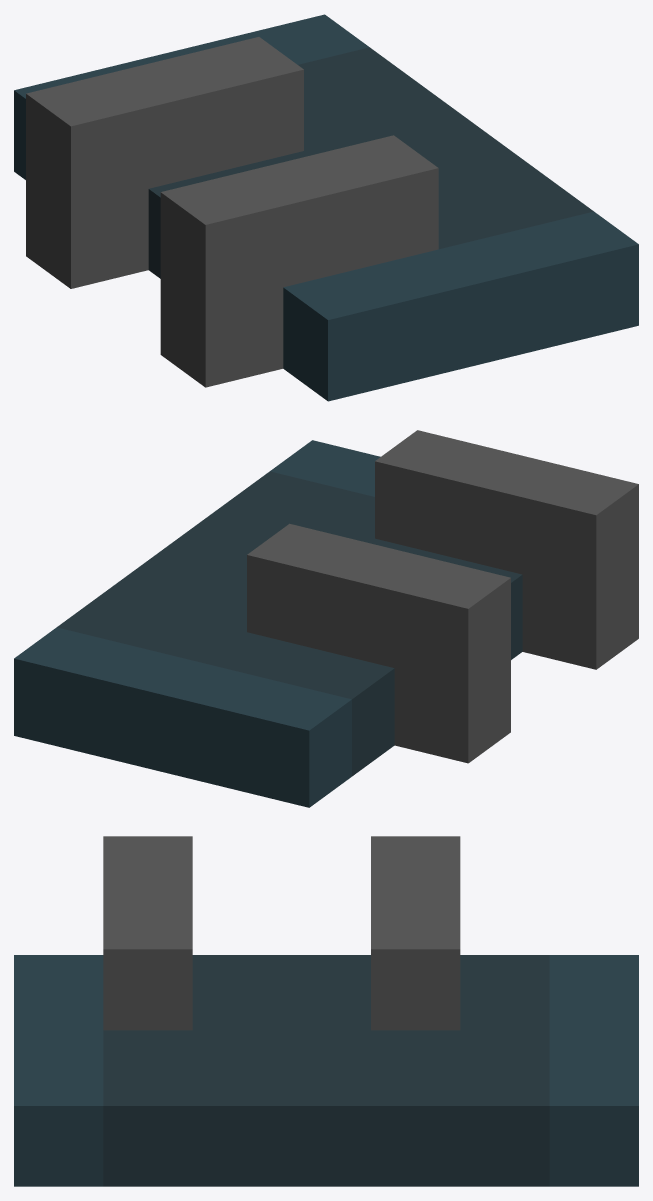
The model's file is Wing-26-InfraredFurtive_Wing1_R.obj.
3 views of the same model, one above another, from view 1: azimuth 30°, elevation 25°; view 2: azimuth 150°, elevation 25°; view 3: azimuth 270°, elevation 25° (orthographic). The views are drawn at different scales.
Parts seen in each view (by area): view 1: InfraredFurtive_Wing1_R; view 2: InfraredFurtive_Wing1_R; view 3: InfraredFurtive_Wing1_R.
Part boxes in pixels (left/top/right/bottom): InfraredFurtive_Wing1_R: left=14, top=14, right=638, bottom=401; InfraredFurtive_Wing1_R: left=14, top=430, right=638, bottom=807; InfraredFurtive_Wing1_R: left=14, top=836, right=638, bottom=1186.
Bounding box in the file's own units: 0.5 × 0.2 × 0.7.
Materials: 1 (1 with a texture image).
